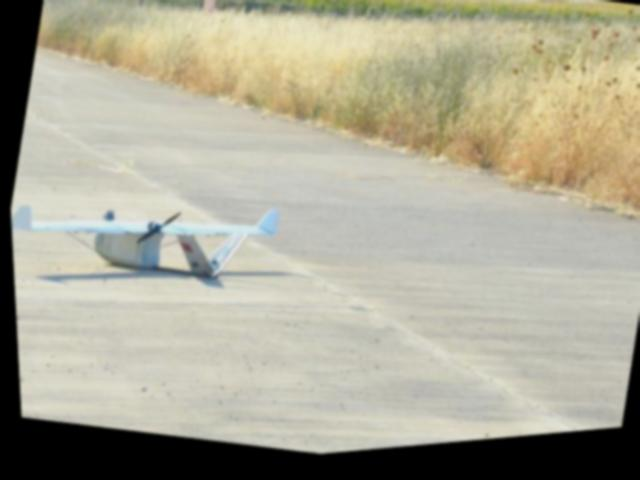iha: (7, 147, 286, 308)
